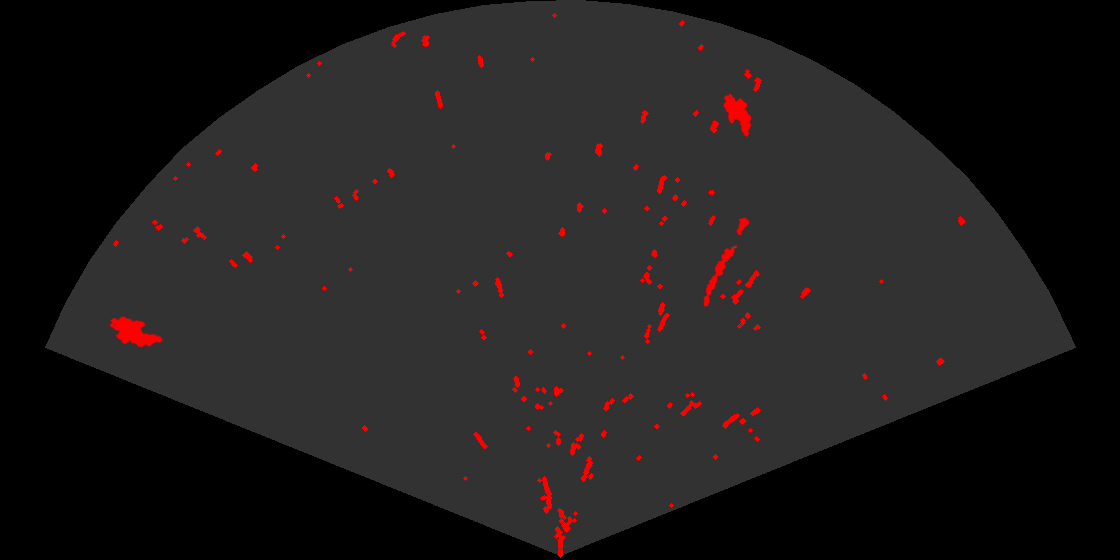AUV: (108, 315, 165, 349), (722, 92, 753, 138)
chain: (702, 216, 751, 308)
